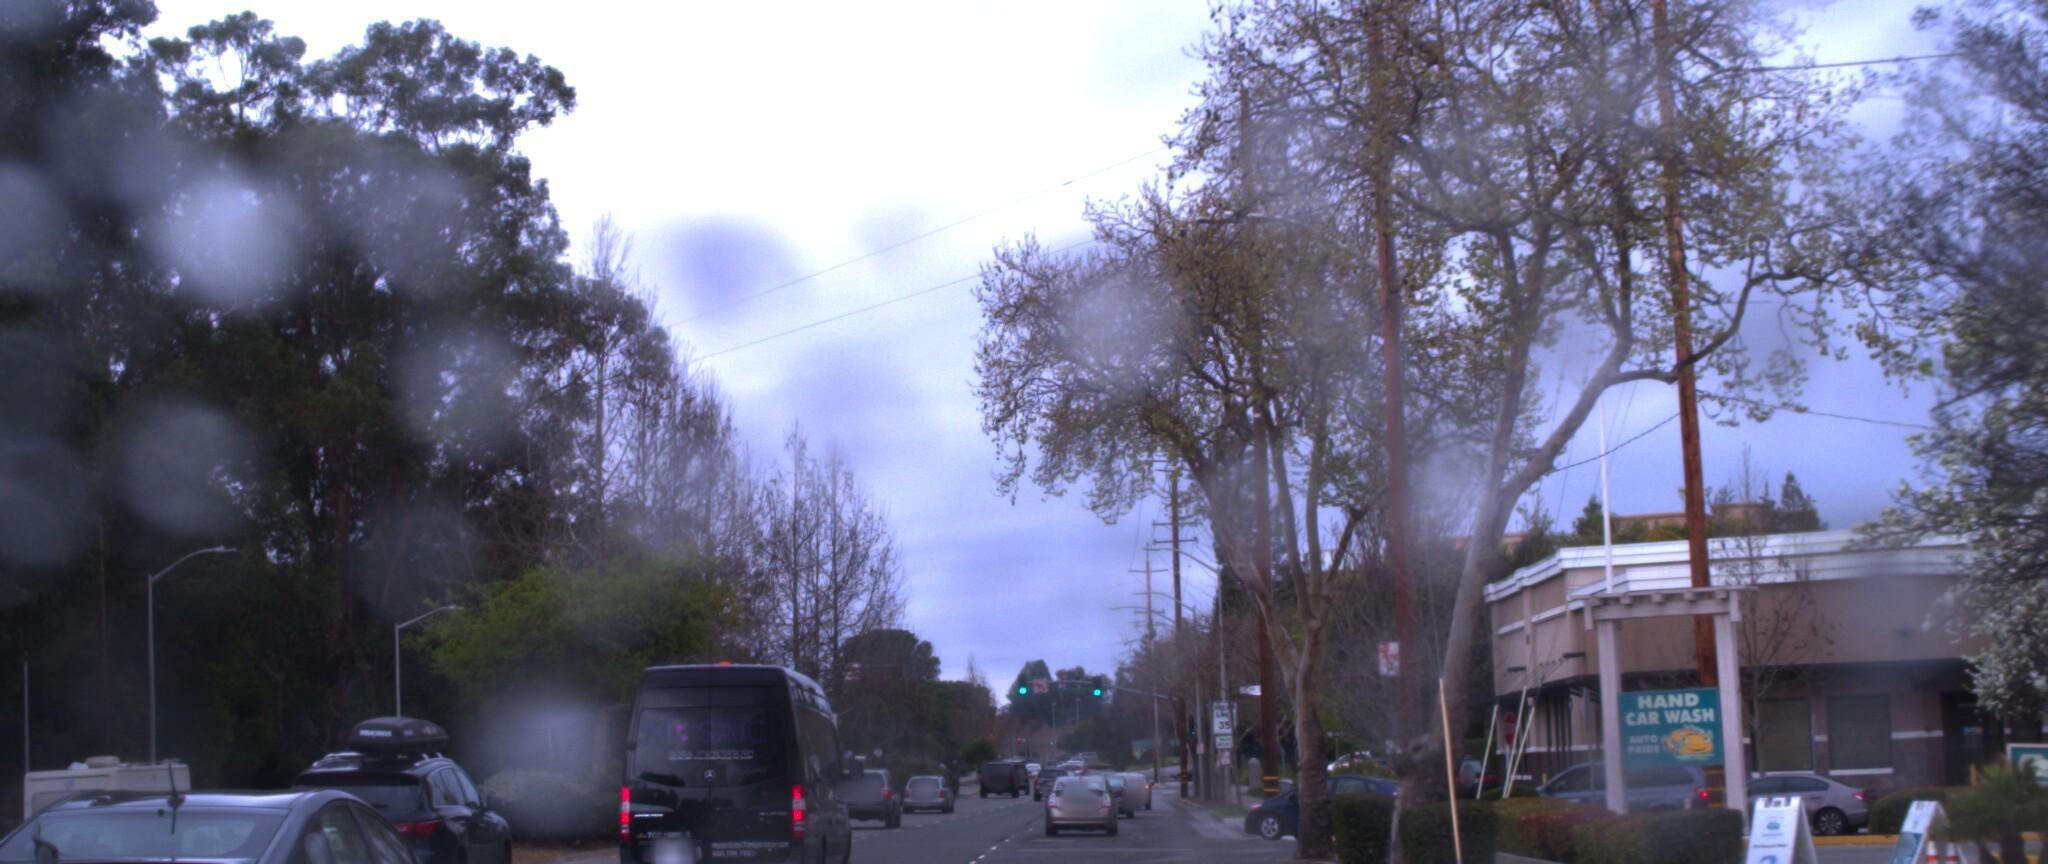car: (0, 754, 529, 864), (251, 690, 529, 864), (1476, 744, 1721, 821), (1637, 748, 1878, 824), (1038, 740, 1123, 807), (835, 748, 914, 807)
other_vehicle: (613, 636, 867, 864), (4, 732, 210, 863)
